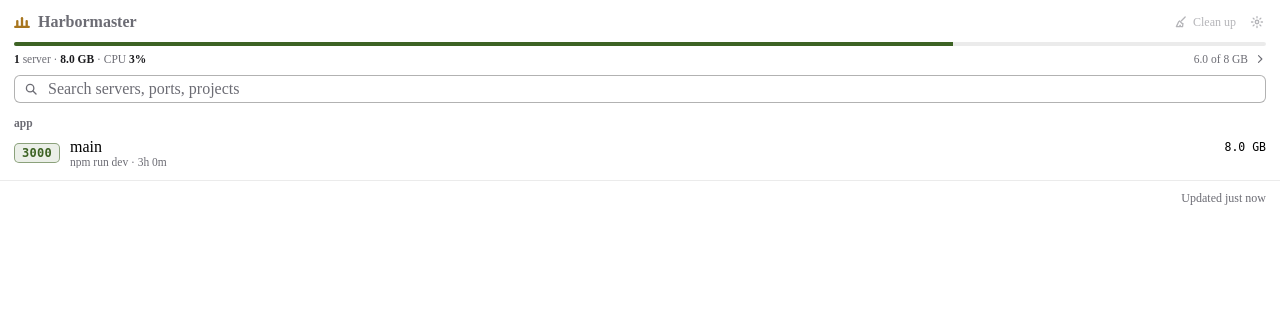
it: Panel › keeps the dev servers' whole figure when it passes the memory in use
This screenshot has width=1280, height=323.
Click the button "6.0 of 8 GB".
click(1230, 59)  # box top-left (1194, 53), bottom-right (1266, 65)
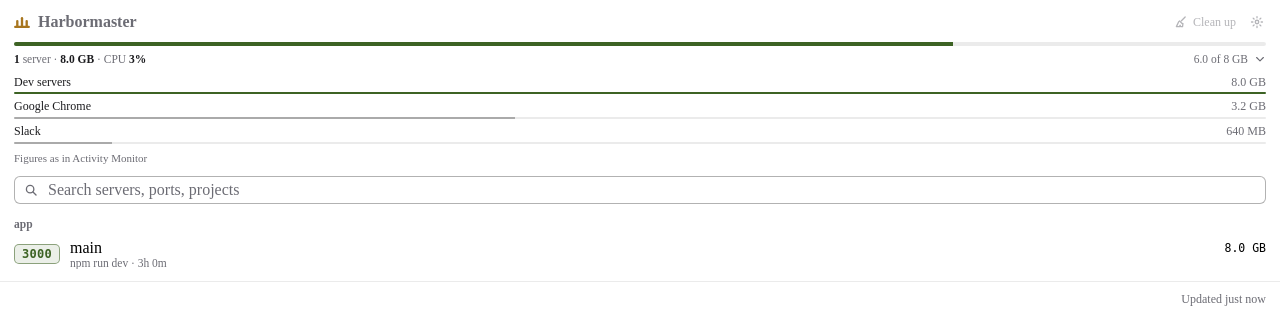
Now the text "8.0 GB" in the row of "Dev servers" is shown, box top-left (1231, 75), bottom-right (1266, 89)
